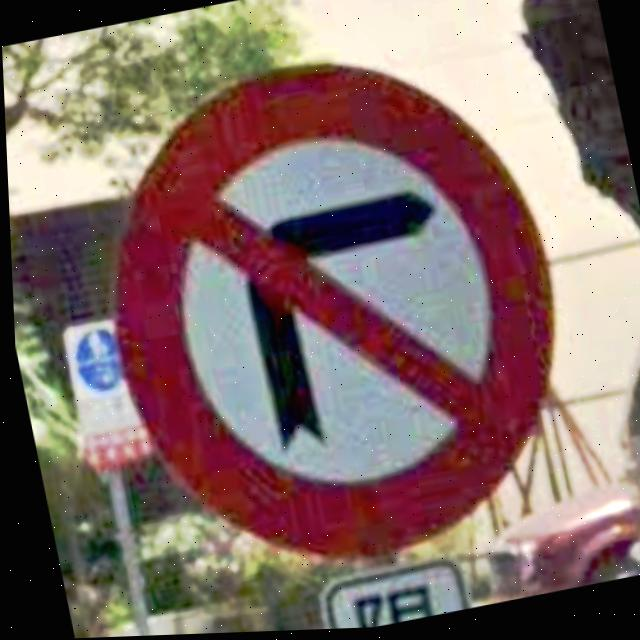noturnright: (111, 67, 552, 562)
